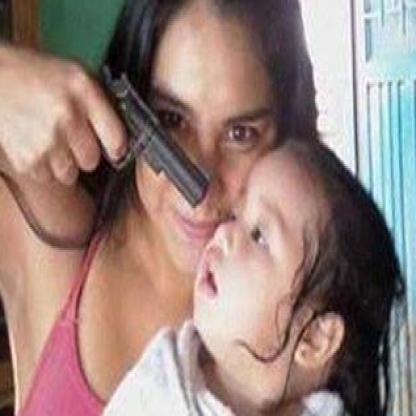gun: (24, 51, 214, 210)
